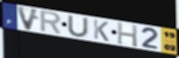2: (140, 27, 161, 52)
H: (116, 22, 139, 49)
K: (93, 19, 110, 43)
R: (39, 10, 63, 37)
U: (67, 15, 90, 39)
V: (16, 5, 41, 32)
